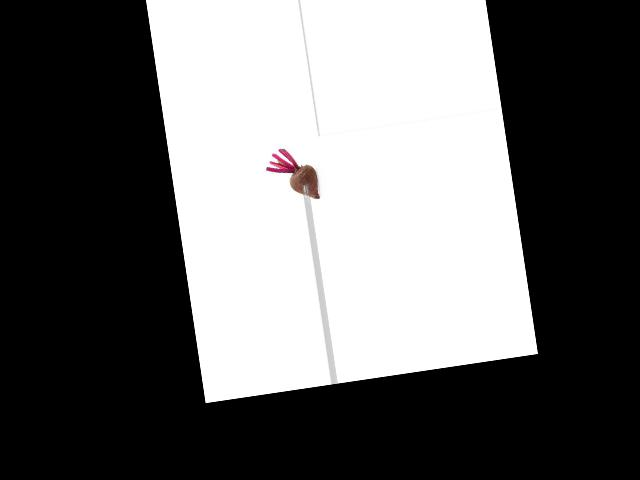beet: (263, 144, 320, 206)
